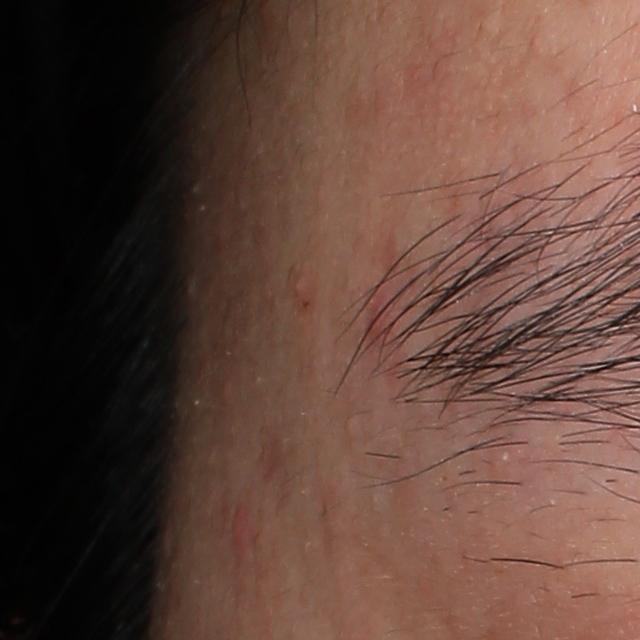papule: (228, 505, 250, 556), (291, 274, 308, 296)
